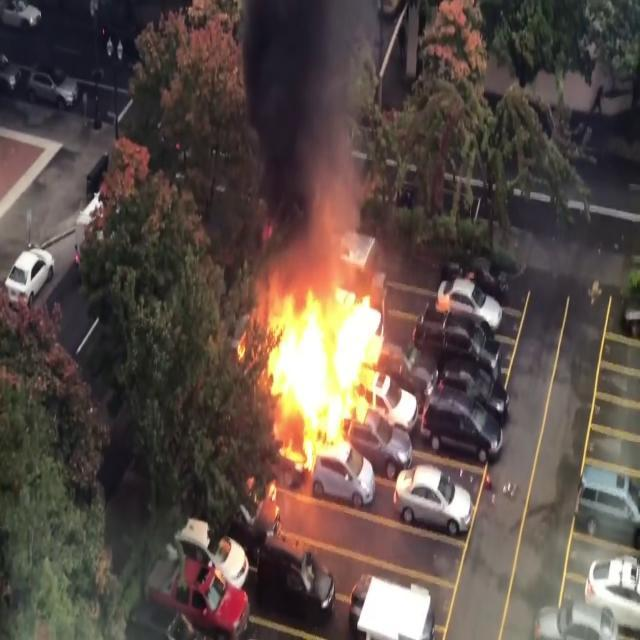Fire: (253, 266, 402, 472)
Smoke: (227, 0, 380, 269)
